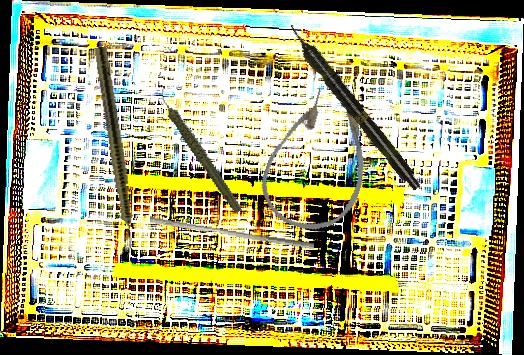Cannula: (251, 80, 387, 242)
Handpiece: (283, 20, 425, 194), (158, 77, 243, 224), (91, 46, 141, 260)
Pusher: (148, 215, 316, 250)
